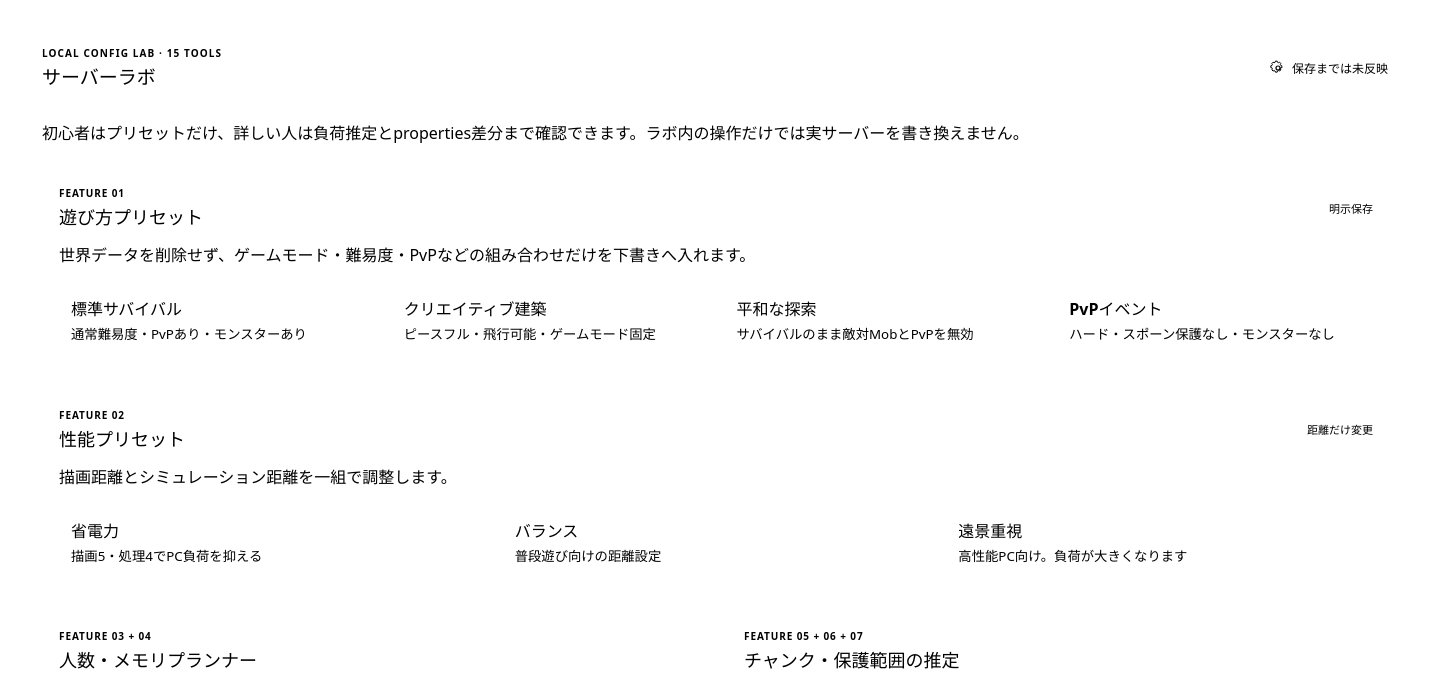
Test case: ServerLabTab › saves, resets, and restores a server-specific local draft
The image size is (1440, 686).
Click the button "省電力 描画5・処理4でPC負荷を抑える" at (95, 531), box [59,503,494,581]
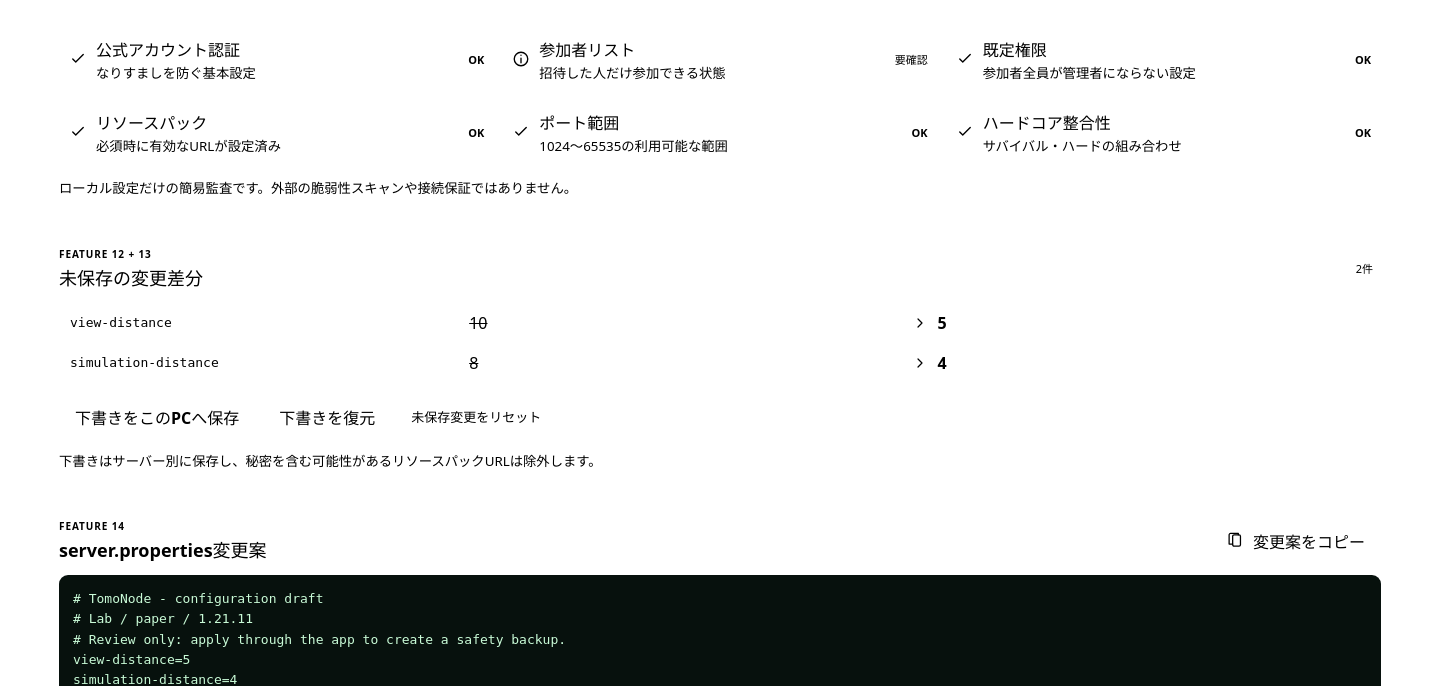
Click the button "下書きをこのPCへ保存" at (157, 417), box [59,396,255,438]
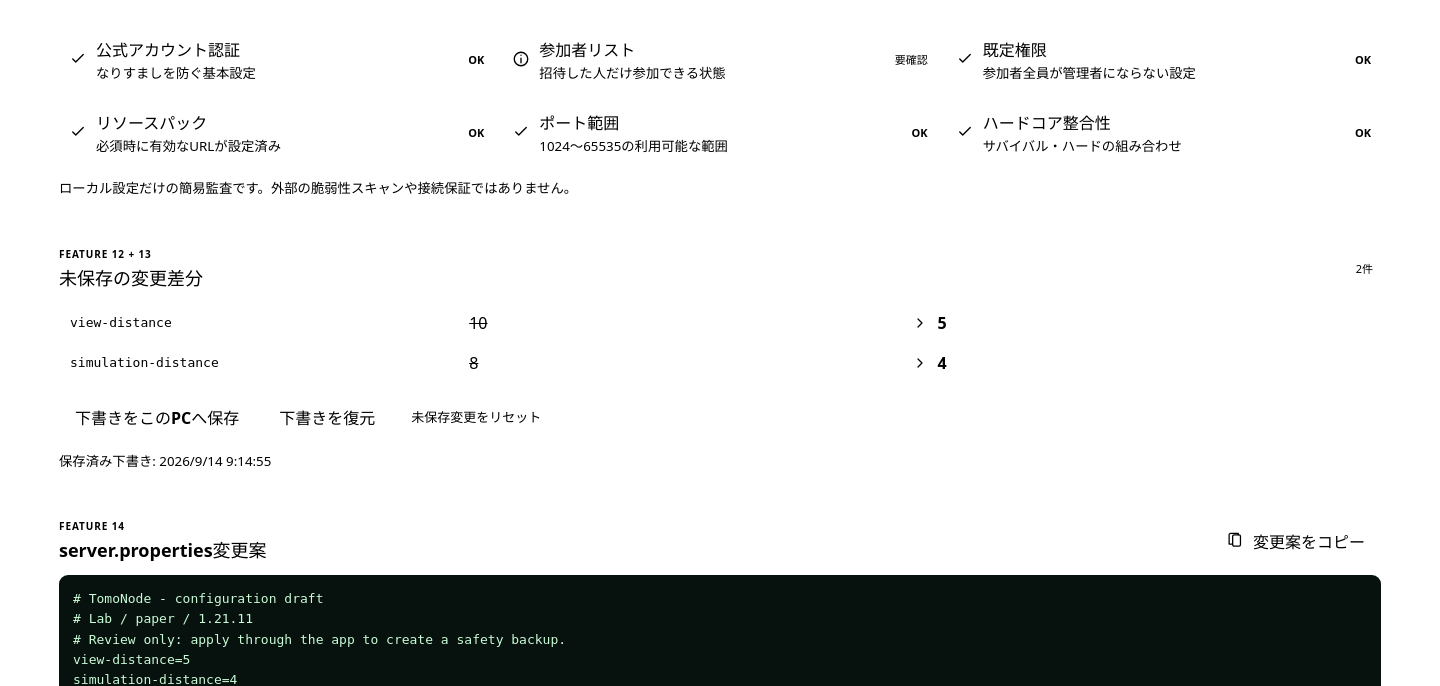
Click the button "未保存変更をリセット" at (476, 417), box [399,396,553,438]
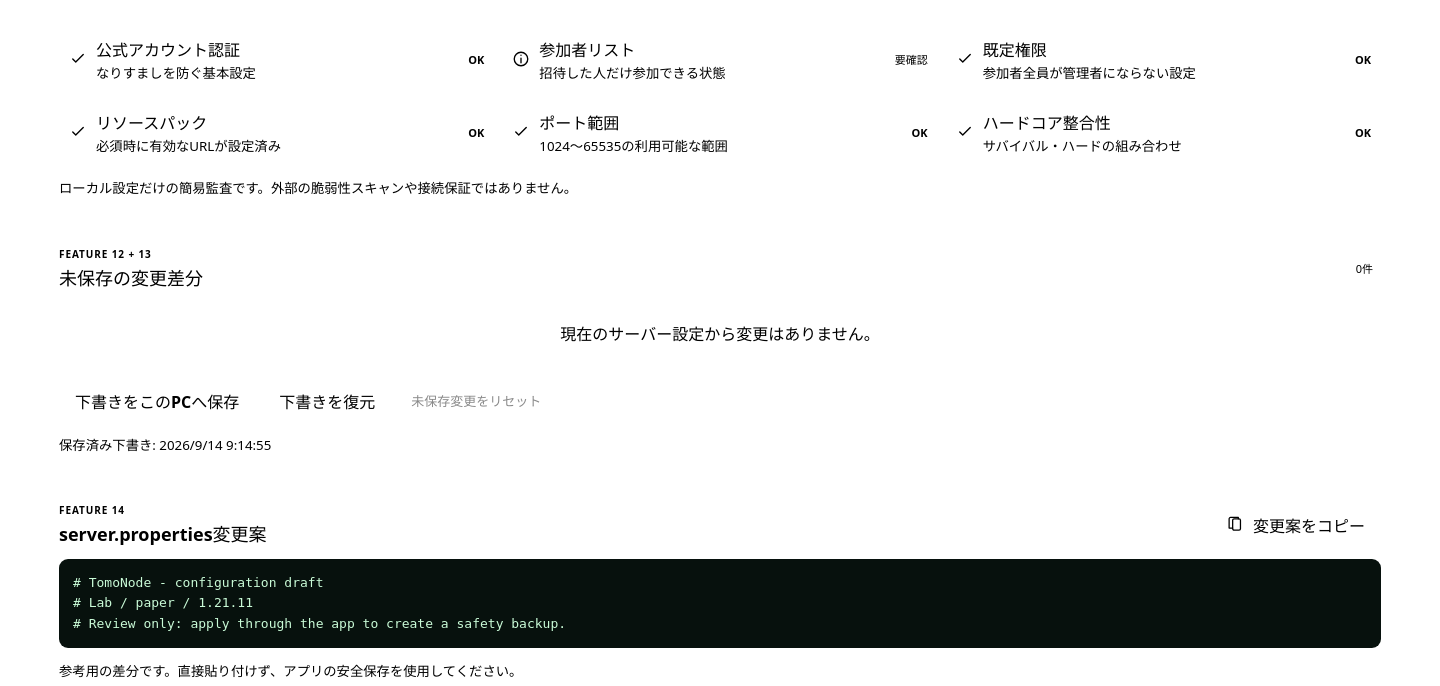
expect the text "view-distance" is gone: met
Click the button "下書きを復元" at (327, 401), box [263,380,391,422]
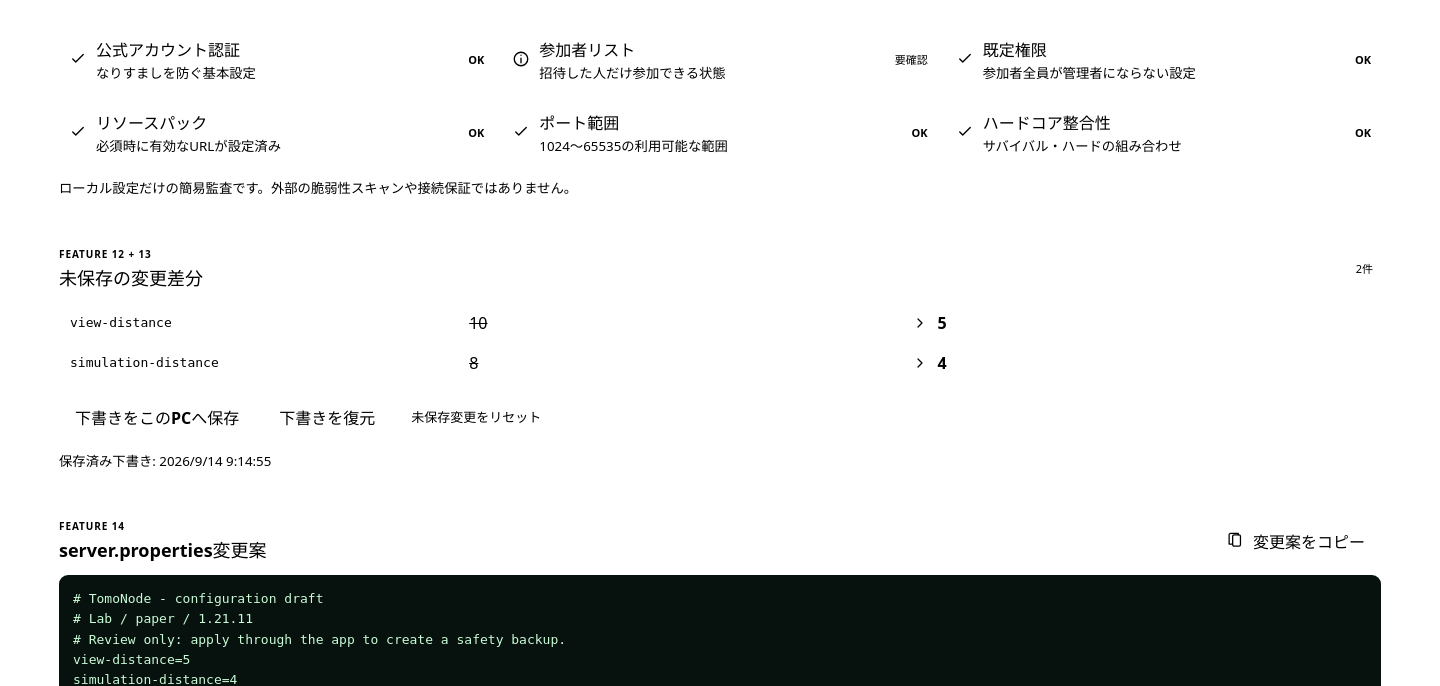
expect the text "view-distance" is shown: met, box [70,315,172,330]
